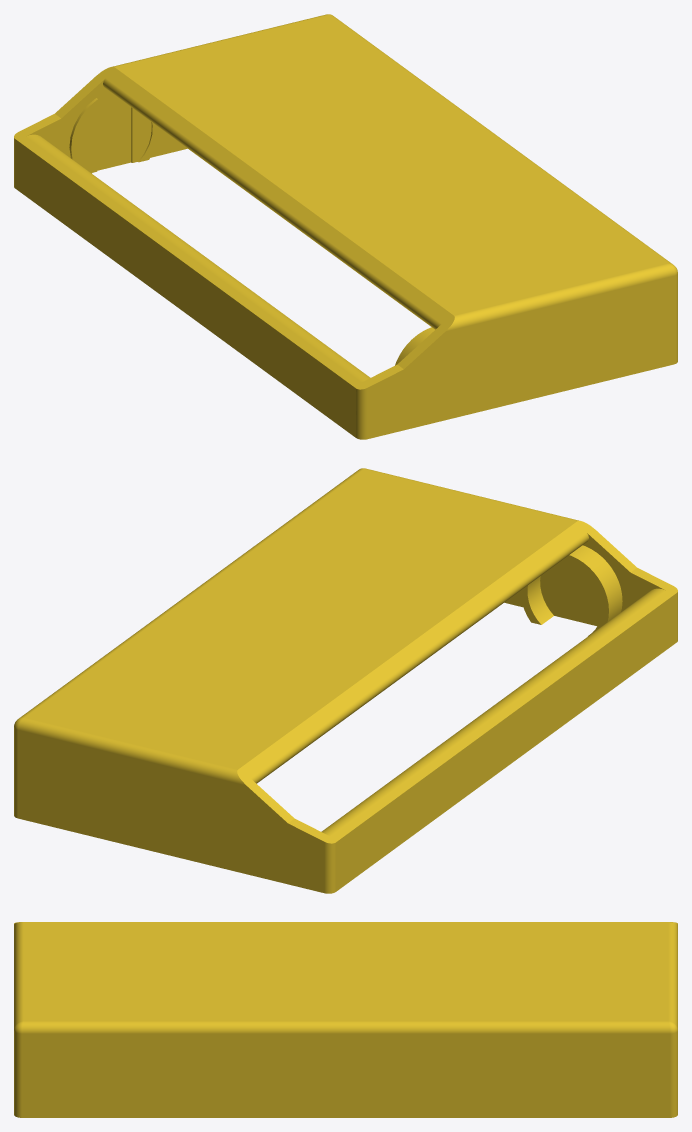
File: Astro_Vac_VacCase.fbx
The picture shows the model from 3 angles, top to bottom: view 1: azimuth 30°, elevation 25°; view 2: azimuth 150°, elevation 25°; view 3: azimuth 270°, elevation 25°; orthographic projection. The views are drawn at different scales.
Visible parts, largest first — view 1: VacCase.001; view 2: VacCase.001; view 3: VacCase.001.
Part boxes in pixels (bbox=[...]): VacCase.001: bbox=[14, 14, 677, 439]; VacCase.001: bbox=[14, 468, 677, 893]; VacCase.001: bbox=[14, 922, 677, 1117].
Size of the model in its own units: 13.97 by 4.06 by 26.35.
